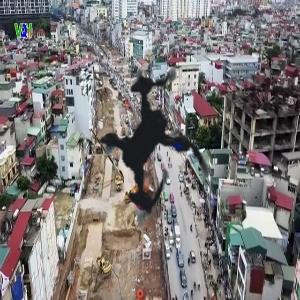drone: (12, 6, 285, 279)
